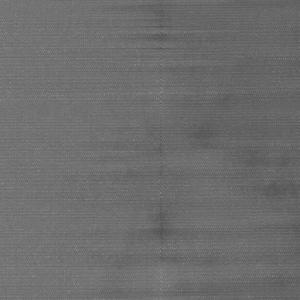Stain: (185, 54, 300, 237), (149, 122, 173, 256), (153, 1, 172, 49)
